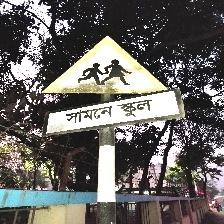School-in-front: (41, 36, 182, 136)
